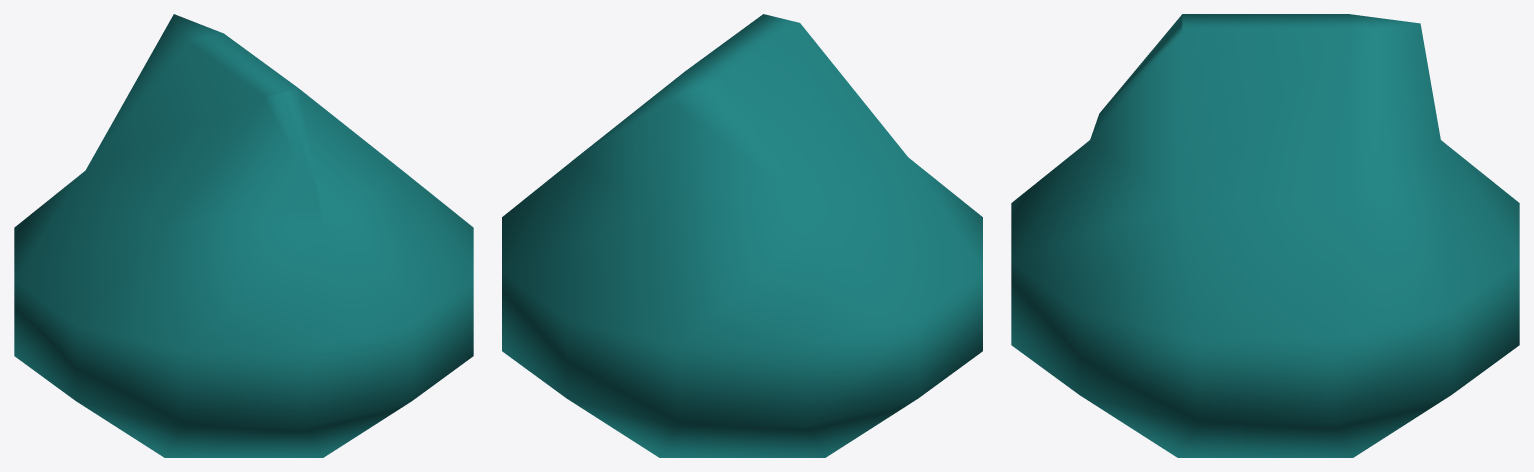
Rendered from curling_stone_collider.fbx.
3 views of the same model, side by side, from view 1: azimuth 30°, elevation 25°; view 2: azimuth 150°, elevation 25°; view 3: azimuth 270°, elevation 25° (orthographic). The views are drawn at different scales.
Parts seen in each view (by area): view 1: curling_stone_collider; view 2: curling_stone_collider; view 3: curling_stone_collider.
Part boxes in pixels (left/top/right/bottom): curling_stone_collider: left=14, top=14, right=473, bottom=457; curling_stone_collider: left=502, top=14, right=982, bottom=457; curling_stone_collider: left=1011, top=14, right=1519, bottom=457.
Size of the model in its own units: 27 by 21.69 by 27.
